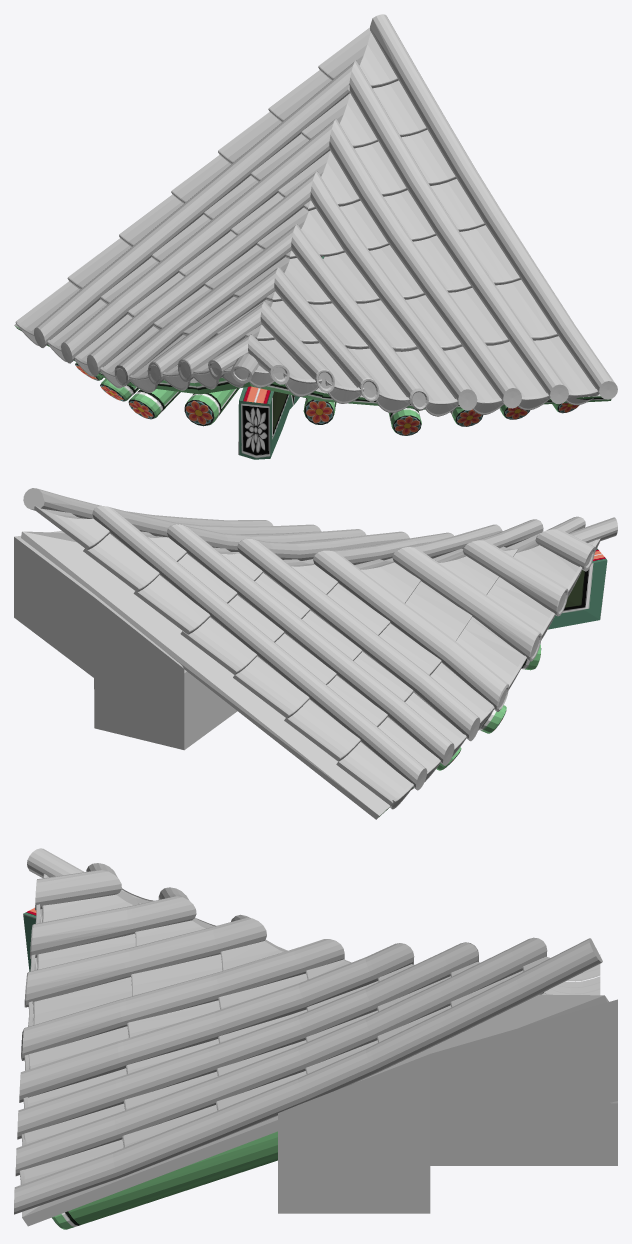
File: SM_R_RoofCorner_6.fbx
The picture shows the model from 3 angles, top to bottom: view 1: azimuth 30°, elevation 25°; view 2: azimuth 150°, elevation 25°; view 3: azimuth 270°, elevation 25°; orthographic projection. The views are drawn at different scales.
Parts seen in each view (by area): view 1: SM_R_RoofCorner_6_LOD0; view 2: SM_R_RoofCorner_6_LOD0; view 3: SM_R_RoofCorner_6_LOD0.
Boxes of the visible parts, left/top/right/bottom form: SM_R_RoofCorner_6_LOD0: left=14, top=14, right=617, bottom=459; SM_R_RoofCorner_6_LOD0: left=14, top=488, right=617, bottom=819; SM_R_RoofCorner_6_LOD0: left=14, top=848, right=617, bottom=1229.
Size of the model in its own units: 268 by 297 by 173.
